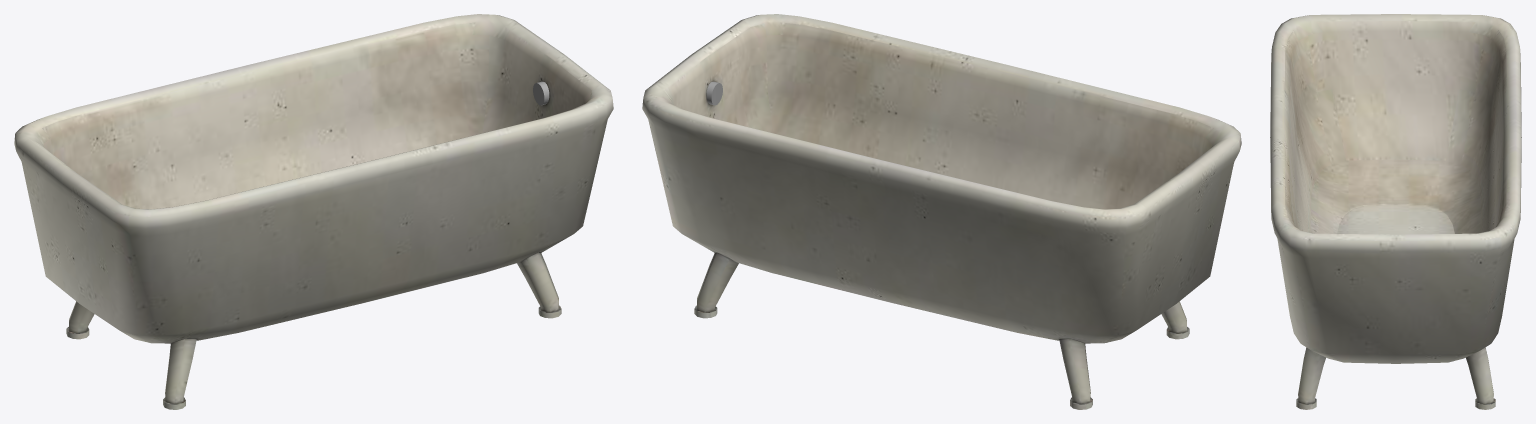
File: bath_legs_lod1_web.glb
3 renders of one model, left to right at view 1: azimuth 30°, elevation 25°; view 2: azimuth 150°, elevation 25°; view 3: azimuth 270°, elevation 25°, orthographic. The views are drawn at different scales.
Visible parts, largest first — view 1: BathLegs_Body; view 2: BathLegs_Body; view 3: BathLegs_Body.
Part boxes in pixels (x1=…): BathLegs_Body: x1=14, y1=14, x2=613, y2=409; BathLegs_Body: x1=642, y1=14, x2=1241, y2=409; BathLegs_Body: x1=1270, y1=14, x2=1521, y2=409.
Size of the model in its own units: 1.5 by 0.606 by 0.704.
2 materials, 2 textured.
